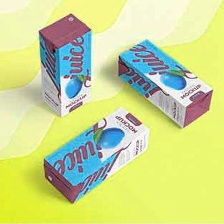carton: (38, 104, 151, 207), (113, 36, 217, 131), (36, 12, 94, 120)
